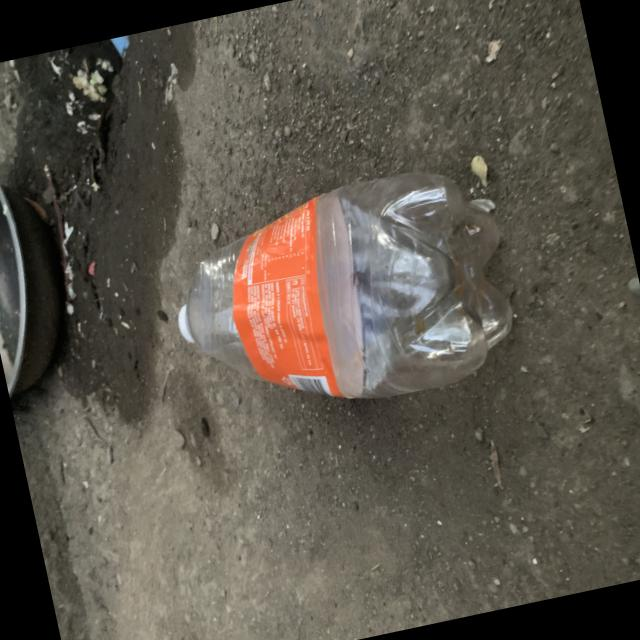Bottle: (178, 171, 512, 397)
